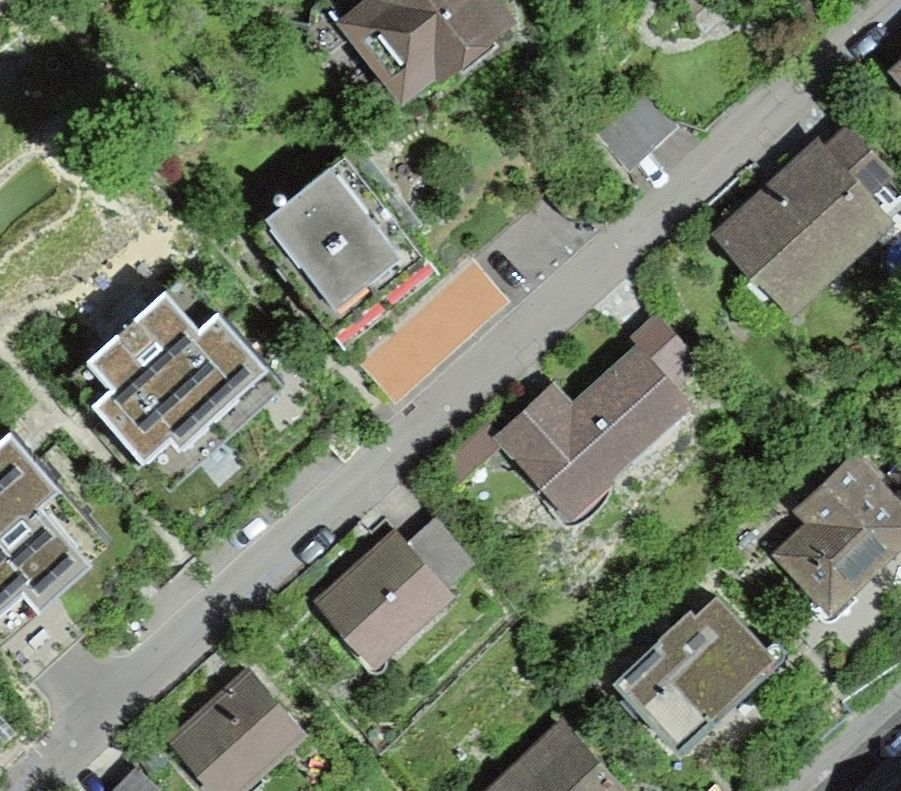solar: (99, 327, 259, 442), (1, 453, 77, 617)
